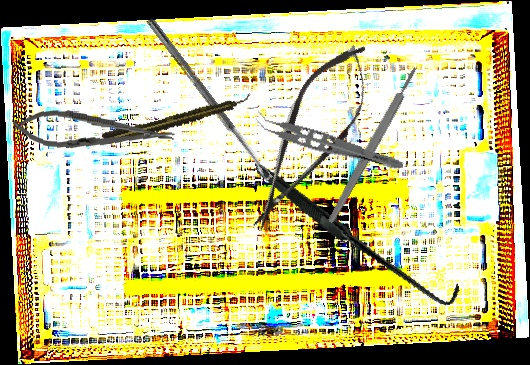Handpiece: (100, 92, 254, 147)
Hook Surgical: (254, 121, 463, 343)
Micro Scissor: (229, 30, 391, 246)
Needle Holder: (10, 106, 177, 157)
Scalpel Handle: (325, 65, 421, 225)
Surgical Spoon: (145, 16, 273, 183)
Tissue Forceps: (252, 108, 408, 174)
